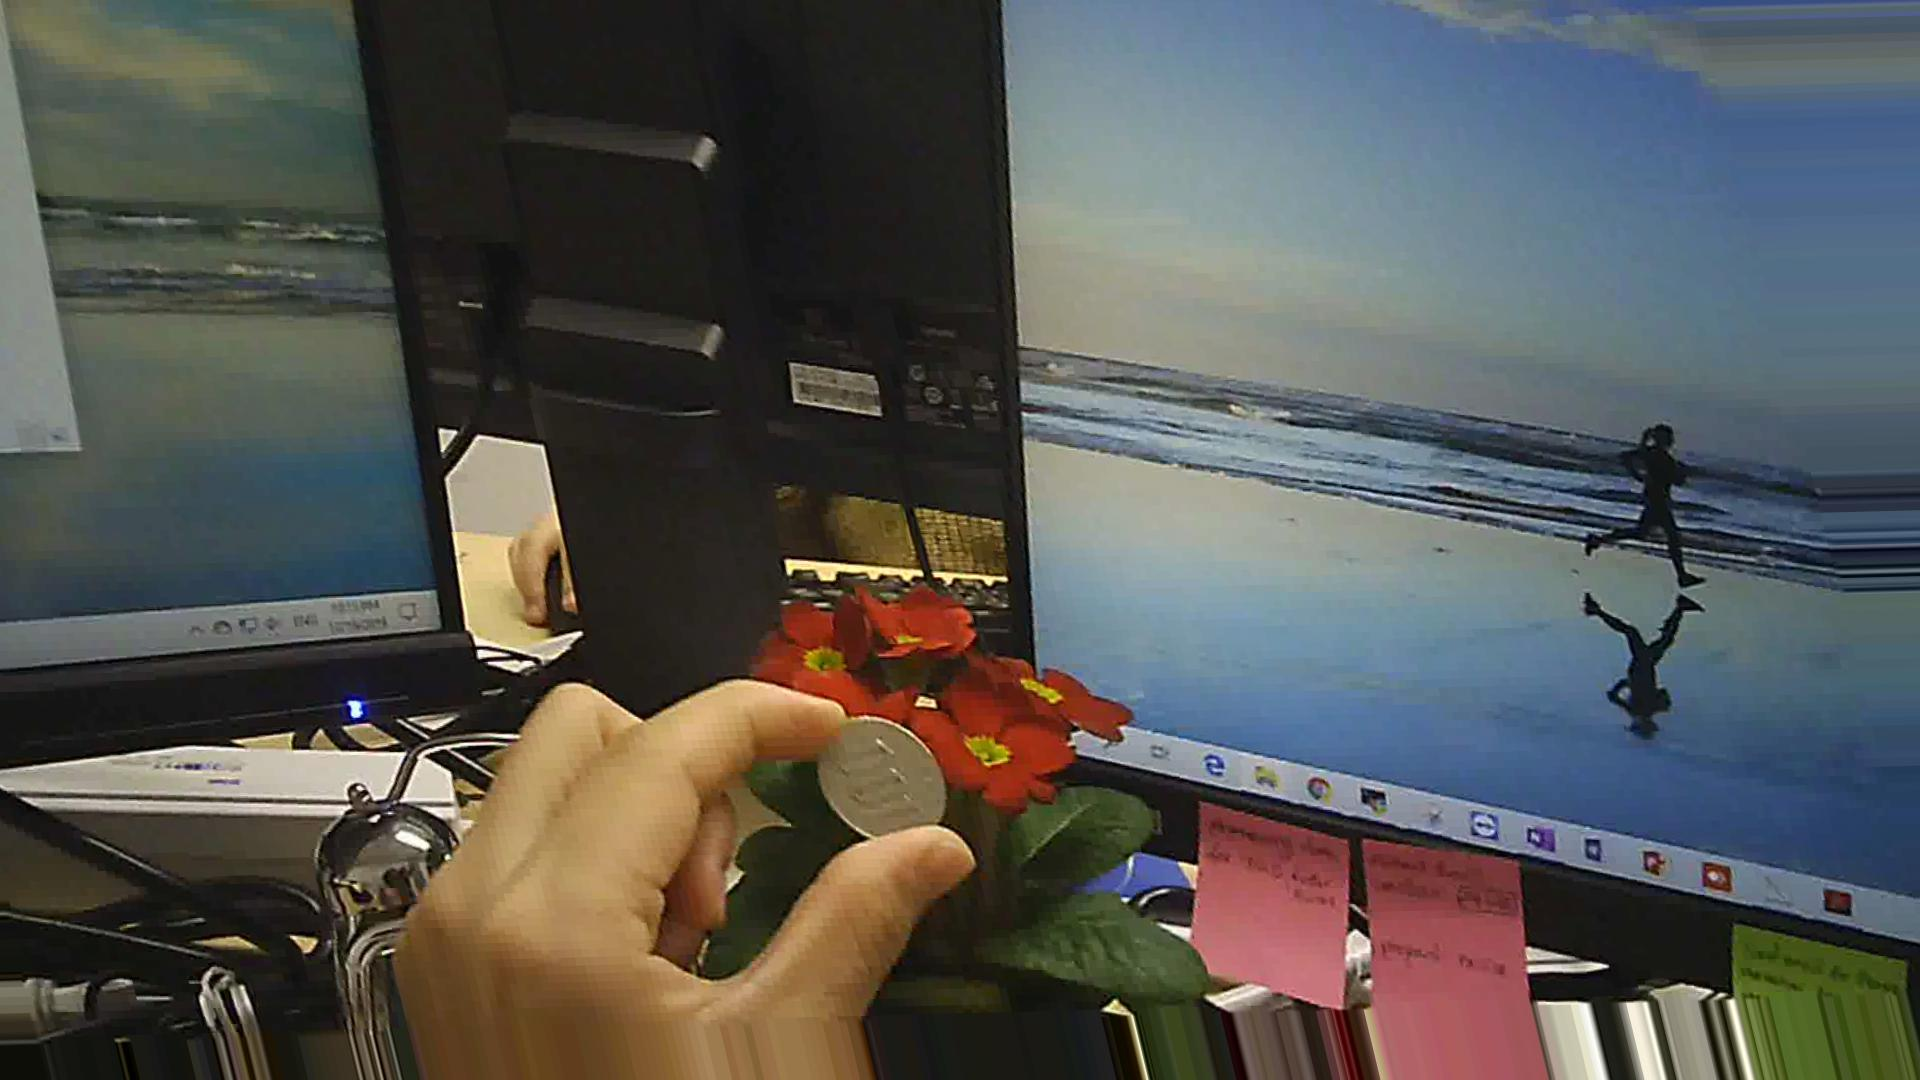100 Yen: (807, 705, 959, 856)
